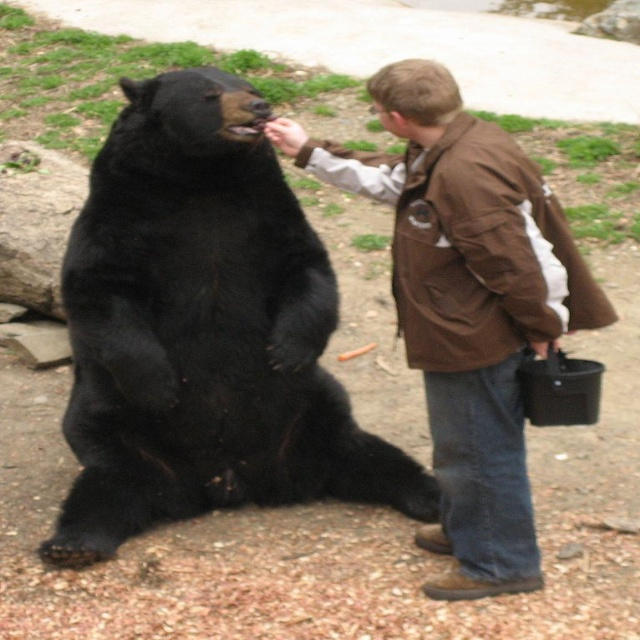Bear: (34, 65, 441, 570)
